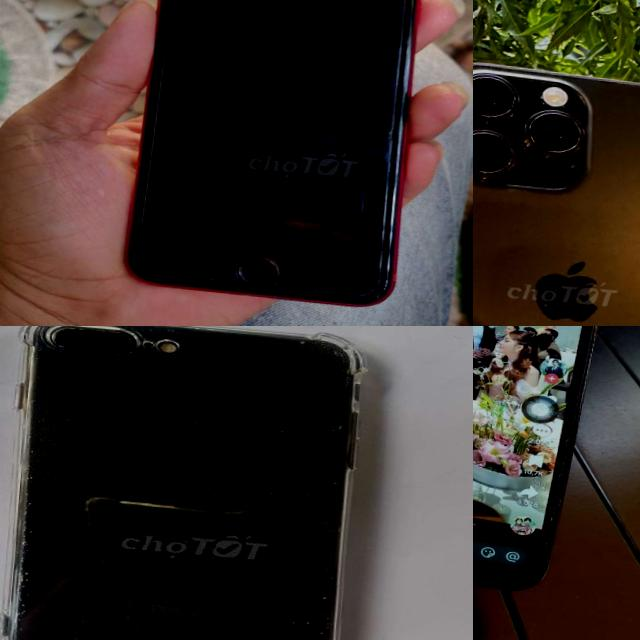scratch: (257, 331, 362, 640), (0, 405, 82, 640), (22, 326, 212, 369), (370, 62, 410, 254), (174, 392, 252, 438), (232, 251, 283, 288), (358, 271, 389, 302)
